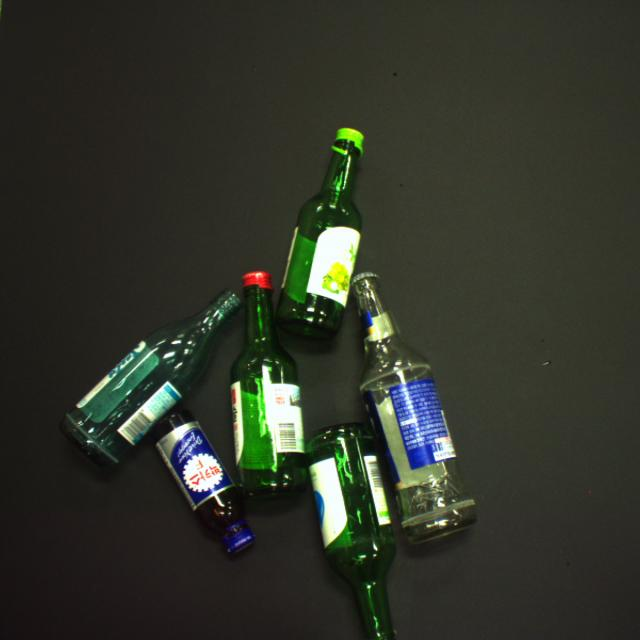beer-bottle: (353, 273, 476, 542)
soju-bottle: (61, 290, 241, 464), (304, 423, 395, 639), (278, 129, 362, 338), (231, 273, 307, 495)
